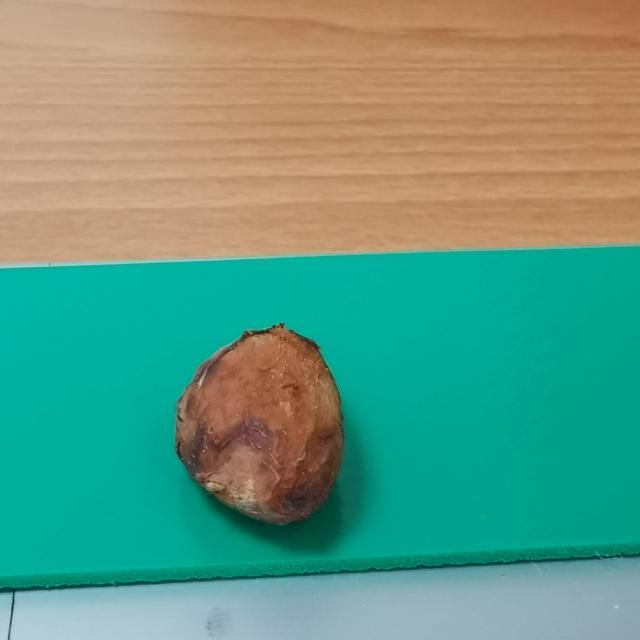Fine_cocoabeans: (58, 291, 469, 574)
